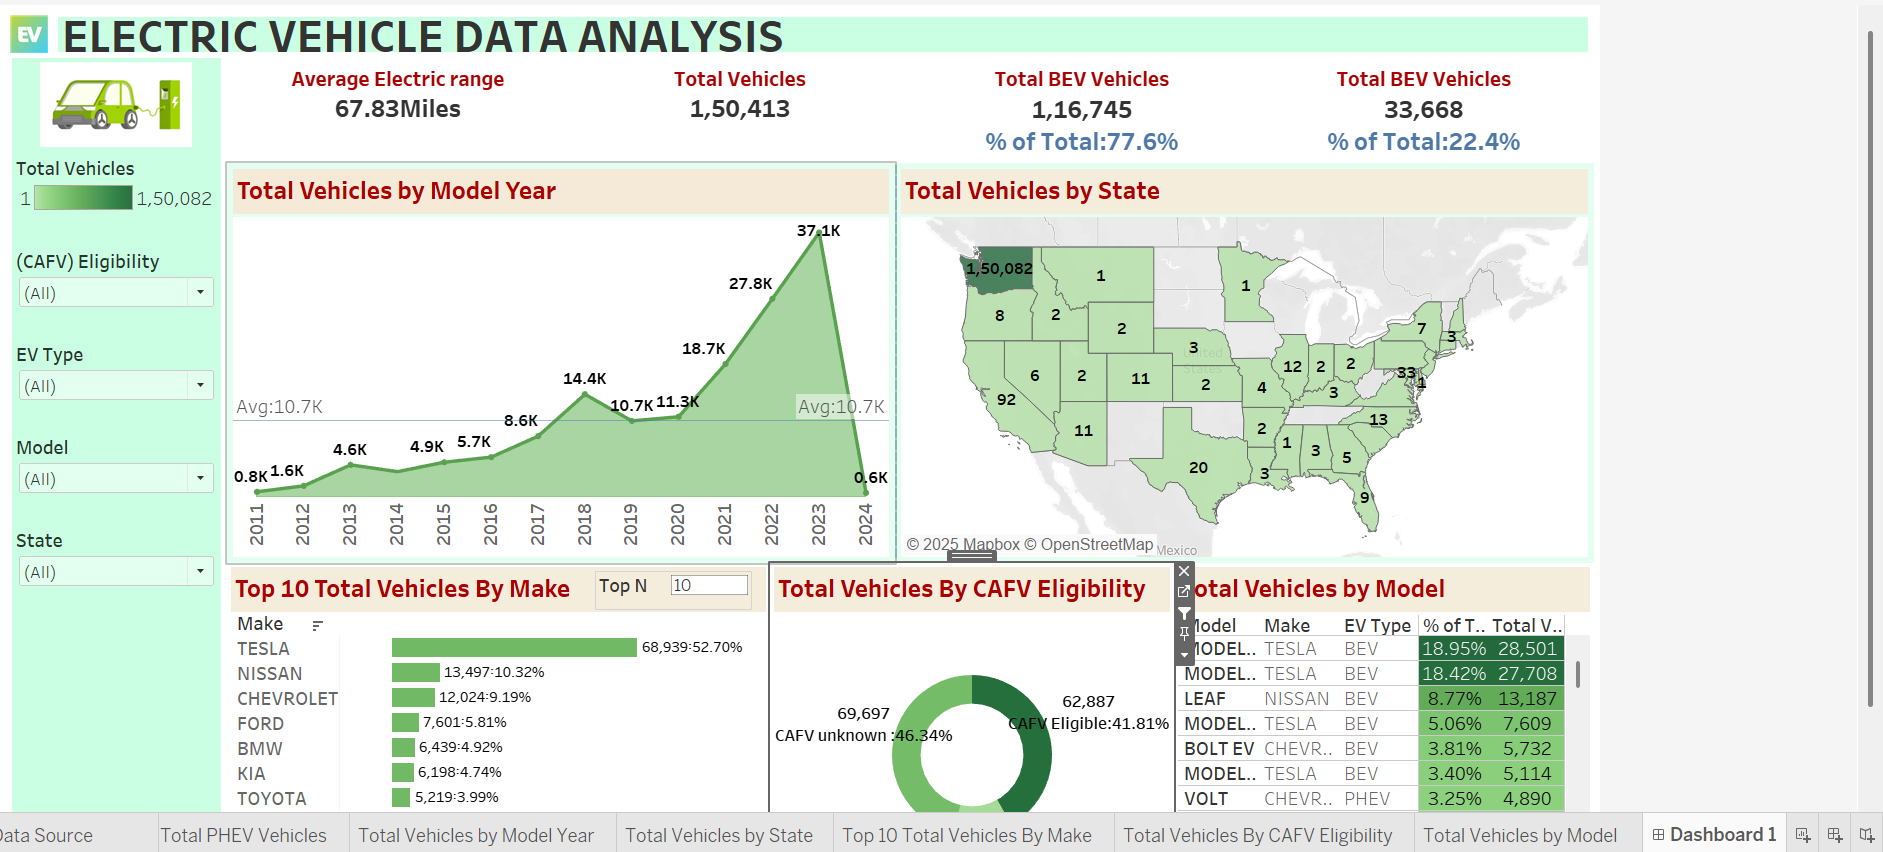

What the dashboard file says about the page in this screenshot:
{"tool":"tableau","page":{"name":"Dashboard 1","canvas":[1600,900],"ordinal":0},"visuals":[{"type":"image","param":"C:/Users/kashi/Desktop/New Tableu/images (2).jpeg","box":[6,6,46,47.2]},{"type":"title","box":[52,6,1542,47.2]},{"type":"image","param":"C:/Users/kashi/Desktop/New Tableu/img.png","box":[12,53,209,93]},{"type":"worksheet","title":"Average Electric Range","mark":"Automatic","box":[227,53,342,105]},{"type":"worksheet","title":"Total Vehicles","mark":"Automatic","box":[569,53,342,105]},{"type":"worksheet","title":"Total BEV Vehicles","mark":"Automatic","box":[911,53,342,105]},{"type":"worksheet","title":"Total PHEV Vehicles ","mark":"Automatic","box":[1253,53,341,105]},{"type":"legend","title":"Total Vehicles by State","param":"[federated.128ljpj01v1m4i1g1f17r0kni25s].[usr:Calculation_1312517853770813440:qk","box":[12,146,209,93]},{"type":"worksheet","title":"Total Vehicles by Model Year","mark":"Area","rows":["Calculation_1312517853770813440","Calculation_1312517853770813440"],"cols":["Model Year"],"box":[227.5,158,668,400]},{"type":"worksheet","title":"Total Vehicles by State","mark":"Multipolygon","box":[895.5,158,698.5,400]},{"type":"filter","title":"Total Vehicles by Model Year","param":"[federated.128ljpj01v1m4i1g1f17r0kni25s].[none:Clean Alternative Fuel Vehicle (C","box":[12,239,209,93]},{"type":"filter","title":"Total Vehicles by Model Year","param":"[federated.128ljpj01v1m4i1g1f17r0kni25s].[none:Electric Vehicle Type:nk]","box":[12,332,209,93]},{"type":"filter","title":"Total Vehicles by Model Year","param":"[federated.128ljpj01v1m4i1g1f17r0kni25s].[none:Model:nk]","box":[12,425,209,93]},{"type":"filter","title":"Total Vehicles by Model Year","param":"[federated.128ljpj01v1m4i1g1f17r0kni25s].[none:State:nk]","box":[12,518,209,93]},{"type":"worksheet","title":"Top 10 Total Vehicles By Make","mark":"Automatic","rows":["Make"],"cols":["Calculation_1312517853770813440"],"box":[227.5,558,543,336]},{"type":"worksheet","title":"Total Vehicles By CAFV Eligibility","mark":"Pie","rows":["Calculation_1312517853823893511","Calculation_1312517853823893511"],"box":[770.5,558,403.5,336]},{"type":"worksheet","title":"Total Vehicles by Model ","mark":"Square","rows":["Model","Make","Electric Vehicle Type"],"box":[1174,558,420,336]},{"type":"parameter","param":"[Parameters].[Parameter 2]","box":[595,566,157,39]},{"type":"blank","box":[12,611,209,93]},{"type":"blank","box":[12,704,209,92]},{"type":"blank","box":[12,796,209,92]}]}

Visuals, with their boxes on the page's 1600x900 design canvas (x1, y1, x2, y2). These are canvas units, not pixel positions in the 1883x852 screenshot, which may show the page scaled, cropped or inside an application window:
image: rect(6, 6, 52, 53)
title: rect(52, 6, 1594, 53)
image: rect(12, 53, 221, 146)
"Average Electric Range" worksheet: rect(227, 53, 569, 158)
"Total Vehicles" worksheet: rect(569, 53, 911, 158)
"Total BEV Vehicles" worksheet: rect(911, 53, 1253, 158)
"Total PHEV Vehicles " worksheet: rect(1253, 53, 1594, 158)
"Total Vehicles by State" legend: rect(12, 146, 221, 239)
"Total Vehicles by Model Year" worksheet (Area marks): rect(228, 158, 896, 558)
"Total Vehicles by State" worksheet (Multipolygon marks): rect(896, 158, 1594, 558)
"Total Vehicles by Model Year" filter: rect(12, 239, 221, 332)
"Total Vehicles by Model Year" filter: rect(12, 332, 221, 425)
"Total Vehicles by Model Year" filter: rect(12, 425, 221, 518)
"Total Vehicles by Model Year" filter: rect(12, 518, 221, 611)
"Top 10 Total Vehicles By Make" worksheet: rect(228, 558, 770, 894)
"Total Vehicles By CAFV Eligibility" worksheet (Pie marks): rect(770, 558, 1174, 894)
"Total Vehicles by Model " worksheet (Square marks): rect(1174, 558, 1594, 894)
parameter: rect(595, 566, 752, 605)
blank: rect(12, 611, 221, 704)
blank: rect(12, 704, 221, 796)
blank: rect(12, 796, 221, 888)
